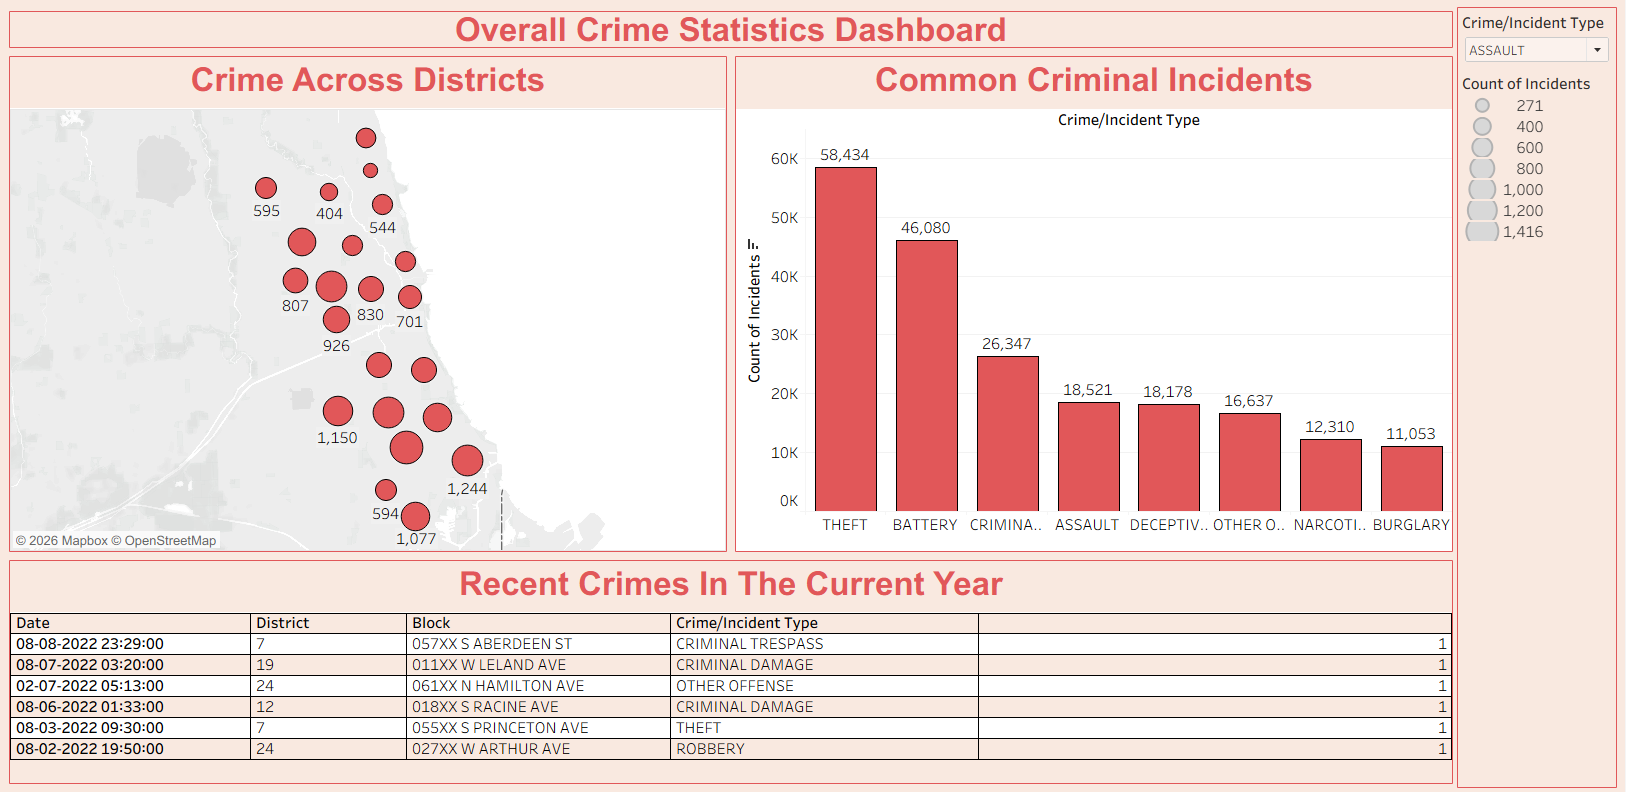

Layout of this report page (visuals, bound fields, positions):
{"tool":"tableau","page":{"name":"Overall Crime Statistics Dashboard","canvas":[1000,1000],"units":"permille","ordinal":1},"visuals":[{"type":"title","box":[4.9,10,891.9,56.5]},{"type":"filter","title":"Crime Across Districts","param":"[federated.0i9ooec00x0po11buzn6f05qnz67].[none:Primary Type:nk]","box":[897.4,11.3,97.1,76.5]},{"type":"worksheet","title":"Crime Across Districts","mark":"Automatic","rows":["Latitude"],"cols":["Longitude"],"box":[4.9,66.5,445.9,632.4]},{"type":"worksheet","title":"Common Criminal Incidents","mark":"Automatic","rows":["Sheet1_F98B7416FBD24542A8F8B46EDAA7BA40"],"cols":["Primary Type"],"box":[450.8,66.5,446,632.4]},{"type":"legend","title":"Crime Across Districts","param":"[federated.0i9ooec00x0po11buzn6f05qnz67].[__tableau_internal_object_id__].[cnt:S","box":[897.4,87.8,97.1,222.1]},{"type":"worksheet","title":"Recent Crimes In The Current Year","mark":"Automatic","rows":["Date","District","Block","Primary Type"],"box":[4.9,698.9,891.9,291.1]}]}

Visuals, with their boxes on the dashboard's canvas, which has no fixed pixel size, in thousandths of its width and height (x1, y1, x2, y2). These are canvas units, not pixel positions in the 1626x792 screenshot, which may show the page scaled, cropped or inside an application window:
title: bbox=(5, 10, 897, 66)
"Crime Across Districts" filter: bbox=(897, 11, 994, 88)
"Crime Across Districts" worksheet: bbox=(5, 66, 451, 699)
"Common Criminal Incidents" worksheet: bbox=(451, 66, 897, 699)
"Crime Across Districts" legend: bbox=(897, 88, 994, 310)
"Recent Crimes In The Current Year" worksheet: bbox=(5, 699, 897, 990)
